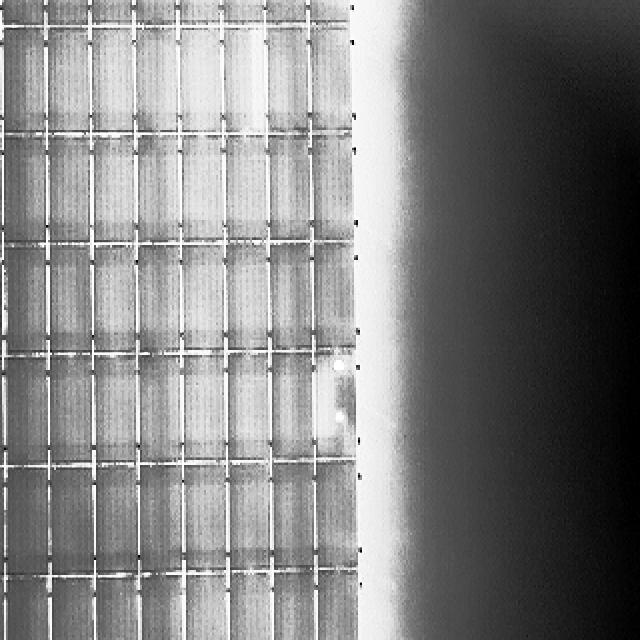Hotspots: (331, 410, 350, 426), (331, 355, 344, 374)
PV-modules: (130, 248, 178, 359), (185, 462, 232, 574), (6, 249, 53, 361), (48, 470, 96, 579), (127, 27, 175, 136), (222, 246, 268, 358), (219, 137, 265, 248), (5, 139, 51, 250), (92, 134, 138, 244), (183, 248, 229, 358), (48, 356, 94, 466), (5, 27, 51, 137), (266, 25, 312, 135), (91, 464, 136, 576), (135, 137, 181, 246), (136, 464, 182, 573), (88, 26, 134, 135), (317, 459, 362, 570), (181, 137, 227, 245), (47, 27, 93, 135), (3, 357, 48, 467), (48, 245, 93, 355), (94, 246, 139, 355), (94, 358, 139, 467), (270, 354, 315, 463), (46, 134, 91, 243), (229, 354, 274, 463), (183, 355, 228, 463), (314, 241, 359, 349), (180, 26, 225, 134), (225, 462, 269, 572), (268, 242, 312, 352), (136, 356, 180, 466), (270, 464, 314, 574), (224, 26, 268, 136), (314, 135, 358, 244), (310, 27, 354, 136), (268, 137, 313, 243), (4, 471, 48, 578), (316, 353, 359, 462), (183, 575, 231, 640), (269, 574, 316, 640), (94, 577, 142, 640), (229, 574, 274, 640), (51, 578, 98, 640), (318, 574, 362, 640), (2, 577, 48, 640), (139, 576, 184, 640), (176, 0, 226, 25), (218, 0, 262, 28), (132, 0, 176, 28), (258, 0, 304, 25), (2, 0, 48, 25), (88, 0, 132, 25), (308, 0, 352, 25), (44, 0, 88, 22), (0, 358, 6, 468), (0, 470, 6, 580), (0, 580, 8, 640), (0, 245, 4, 355), (0, 137, 4, 245), (0, 0, 2, 28)
